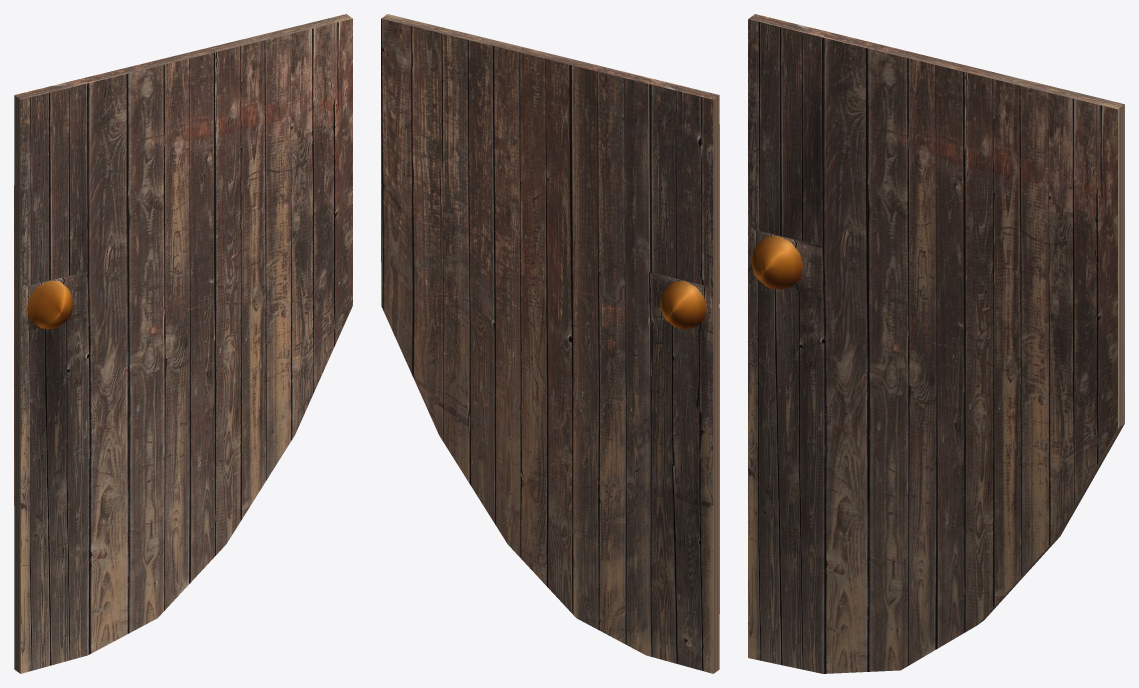
File: door.FBX
3 views of the same model, side by side, from view 1: azimuth 30°, elevation 25°; view 2: azimuth 150°, elevation 25°; view 3: azimuth 330°, elevation 25° (orthographic). The views are drawn at different scales.
Visible parts, largest first — view 1: Object002; view 2: Object002; view 3: Object002.
Boxes of the visible parts, x1,y1,x2,y2 form: Object002: [14, 14, 352, 673]; Object002: [381, 14, 719, 673]; Object002: [748, 14, 1124, 673].
Bounding box in the file's own units: 119 × 197 × 19.98.
